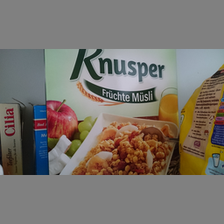cereal: (44, 49, 182, 175)
